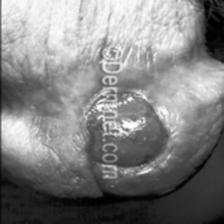Toxin: (84, 97, 174, 164)
